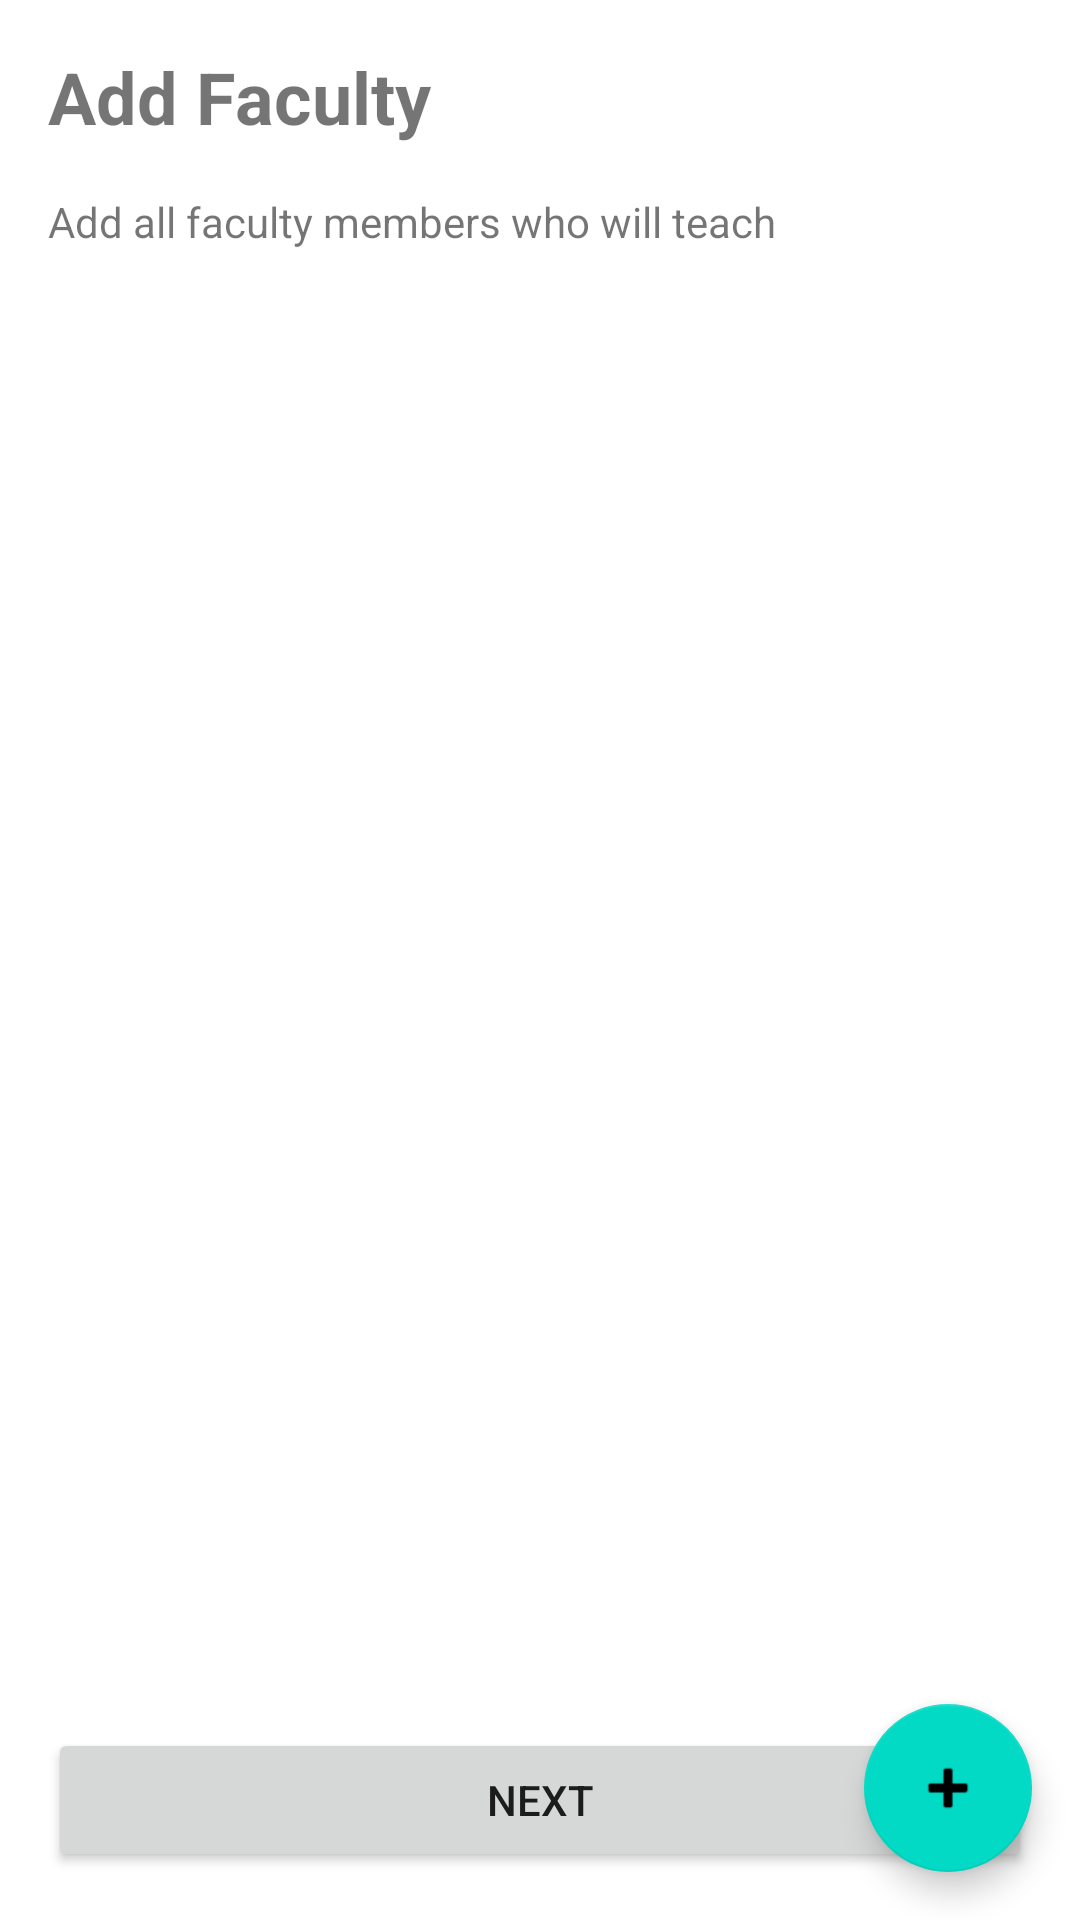

Icon bounding boxes for this 1080×1920 phone screenshot, format (x1, y1, x2, y2):
Add Faculty: (864, 1704, 1032, 1872)
